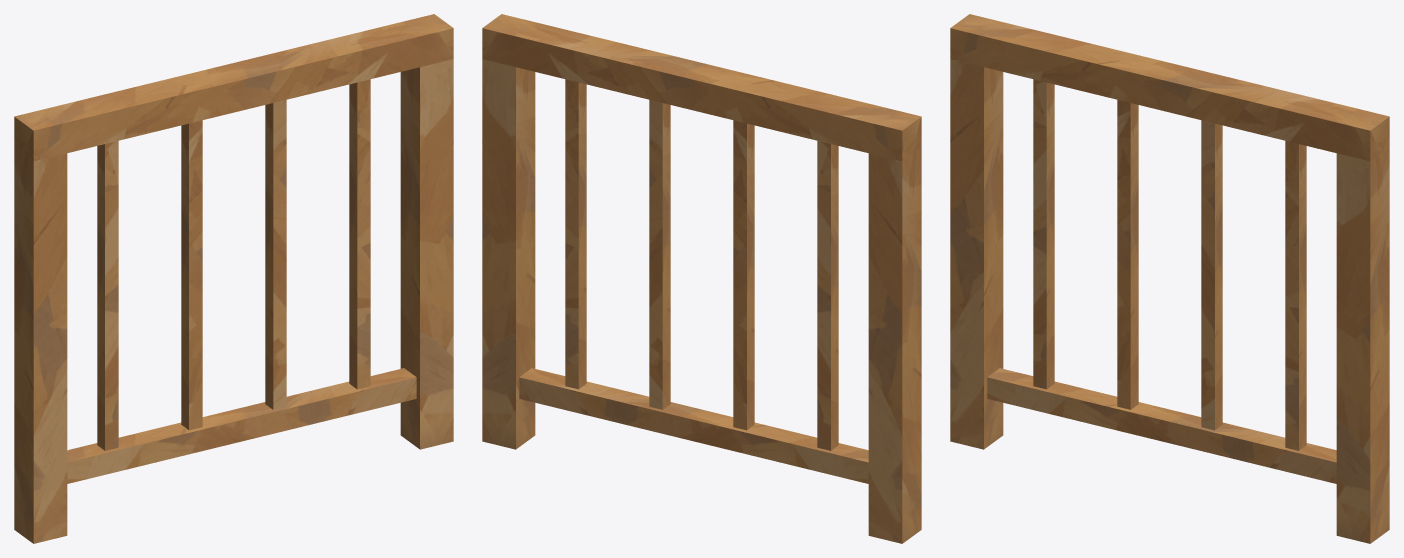
The model's file is StairwellEndGuard.fbx.
The picture shows the model from 3 angles, left to right: view 1: azimuth 30°, elevation 25°; view 2: azimuth 150°, elevation 25°; view 3: azimuth 330°, elevation 25°; orthographic projection.
Parts seen in each view (by area): view 1: StairwellEndGuard; view 2: StairwellEndGuard; view 3: StairwellEndGuard.
Part boxes in pixels (x1=…): StairwellEndGuard: x1=14, y1=14, x2=453, y2=543; StairwellEndGuard: x1=482, y1=14, x2=921, y2=543; StairwellEndGuard: x1=950, y1=14, x2=1389, y2=543.
Size of the model in its own units: 1 by 0.94 by 0.08.
